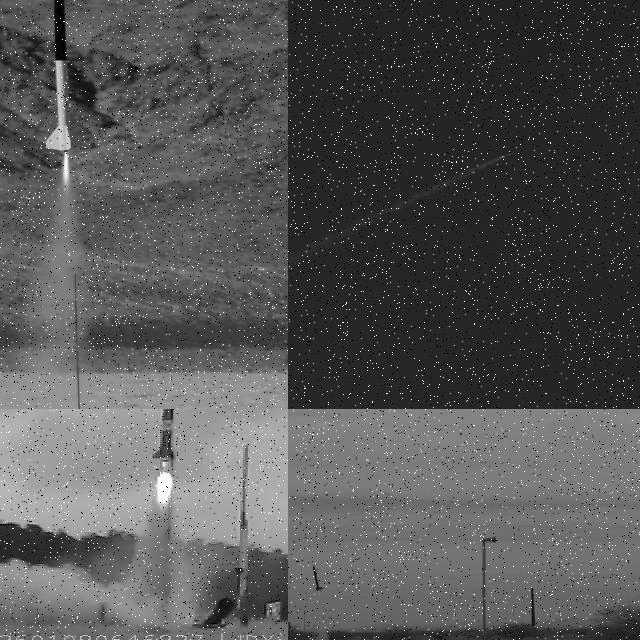Rocket: (43, 0, 82, 153), (150, 409, 178, 462), (312, 565, 324, 591), (500, 151, 514, 159)
